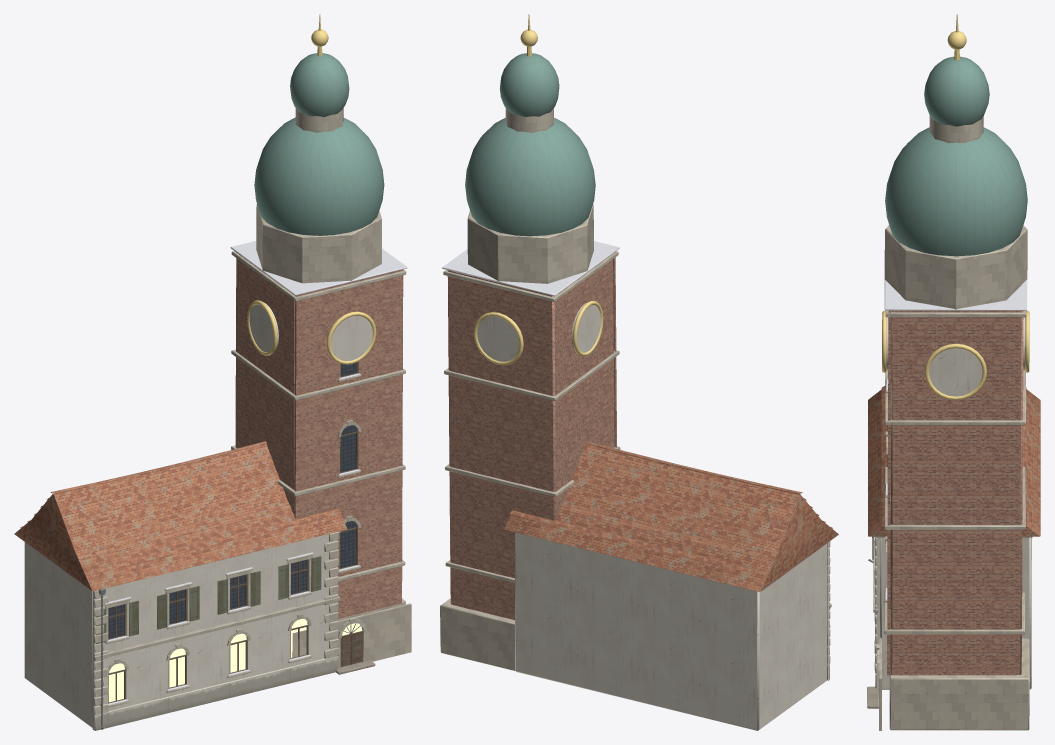
File: town_hall.glb
The picture shows the model from 3 angles, left to right: view 1: azimuth 30°, elevation 25°; view 2: azimuth 150°, elevation 25°; view 3: azimuth 270°, elevation 25°; orthographic projection. The views are drawn at different scales.
Parts seen in each view (by area): view 1: town_hall; view 2: town_hall; view 3: town_hall.
Boxes of the visible parts, <box> form: town_hall: <box>14,14,411,730</box>; town_hall: <box>440,14,838,730</box>; town_hall: <box>867,14,1040,730</box>.
Size of what is drawn, in the model's own units: 21.44 by 39.3 by 8.97.
16 materials, 15 textured.
